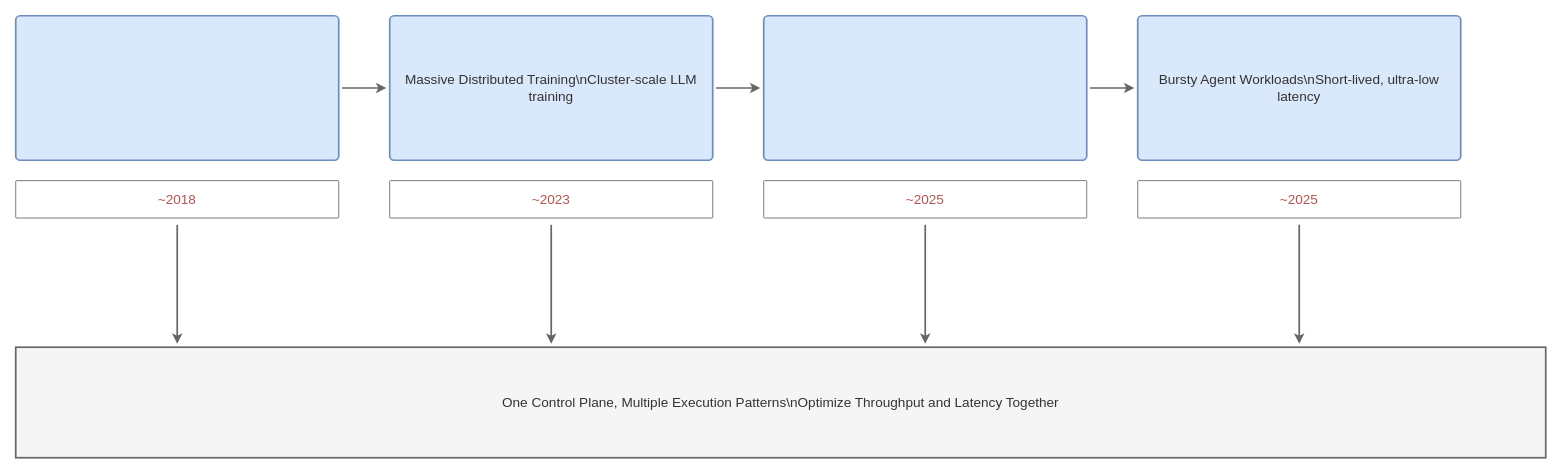
This 1561x473 diagram has some shape labels left out. Each missing label, with the box of its shape:
Batch Training\nDominated cluster design: (14, 14, 339, 161)
Disaggregated LLM Serving\nPrefill/decode split runtime: (762, 14, 1087, 161)
